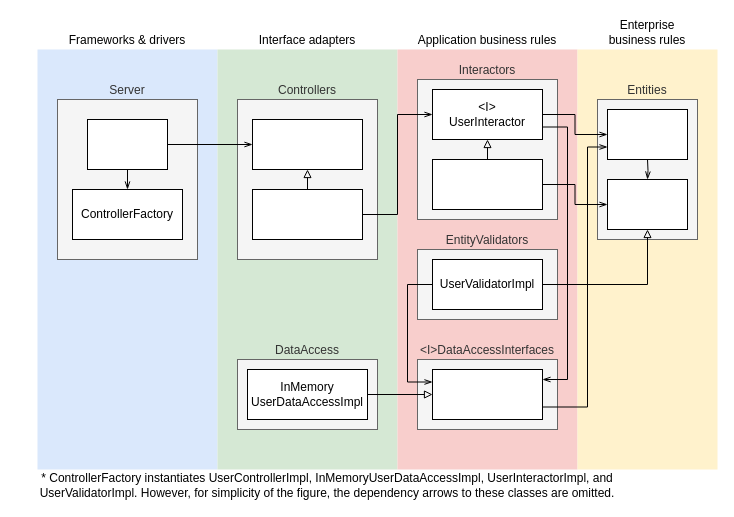
This 734x517 diagram has some shape labels left out. The centre of each missing label's shape, as x and y in pixels:
"<I> UserController" belongs at [307,144].
"<I> UserDataAccess" belongs at [487,394].
"<I> UserValidator" belongs at [647,204].
"index" belongs at [127,144].
"User" belongs at [647,134].
"UserControllerImpl" belongs at [307,214].
"UserInteractorImpl" belongs at [487,184].
